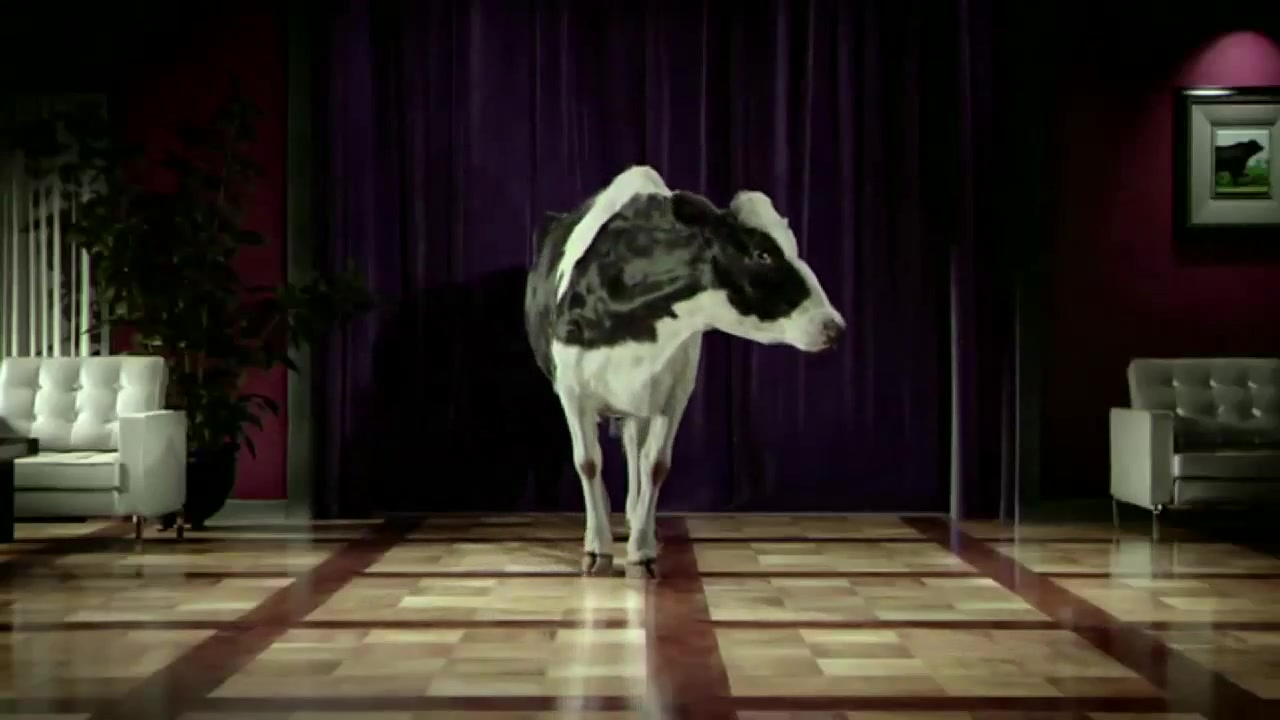cow: (520, 163, 855, 576)
